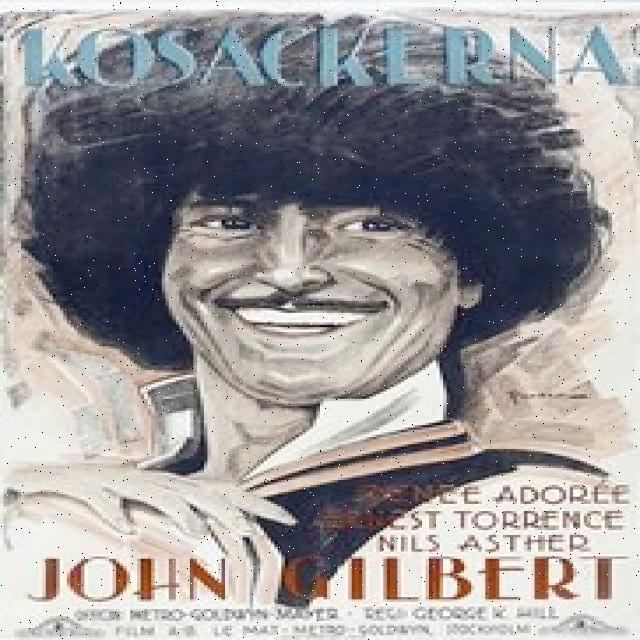movie-judul: (2, 18, 637, 96)
picture: (33, 109, 605, 434)
